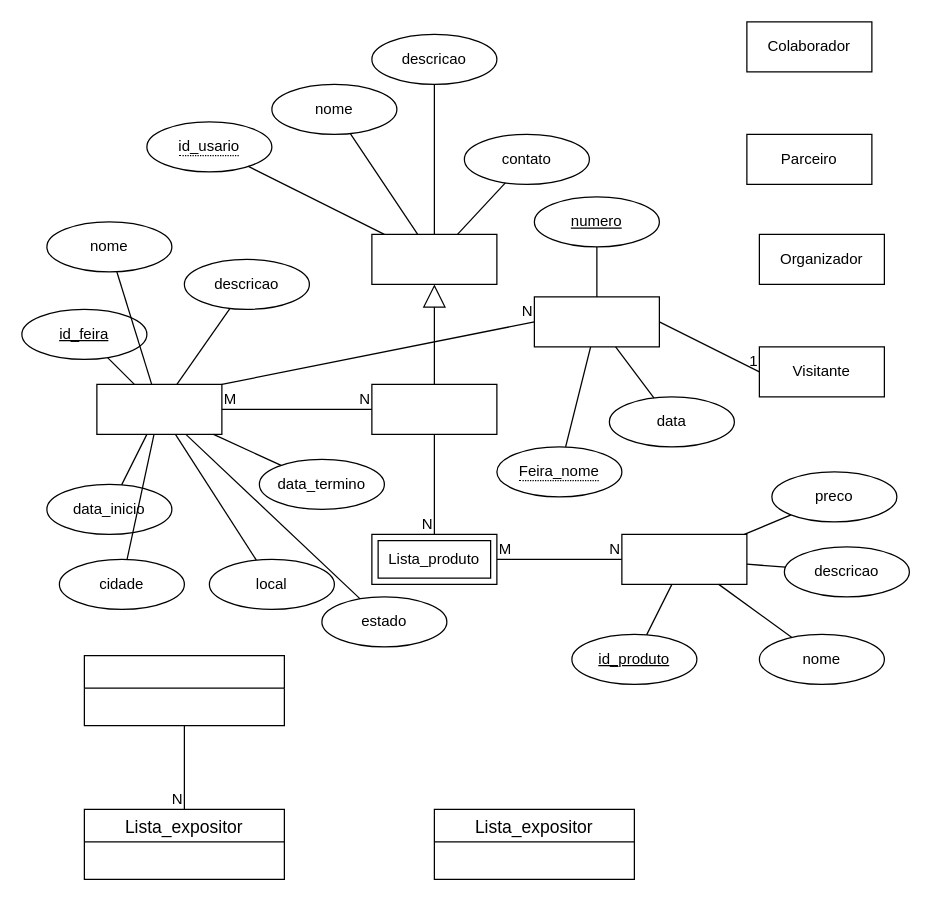
Image size: 931x901. Some labels were removed from this diagram. Each missing label, with the box of its shape:
Expositor: (371, 383, 497, 434)
Feira: (96, 383, 222, 434)
Ingresso: (533, 296, 659, 347)
Lista_feira: (83, 654, 284, 726)
Produto: (621, 533, 747, 584)
Usuário: (371, 233, 497, 284)
